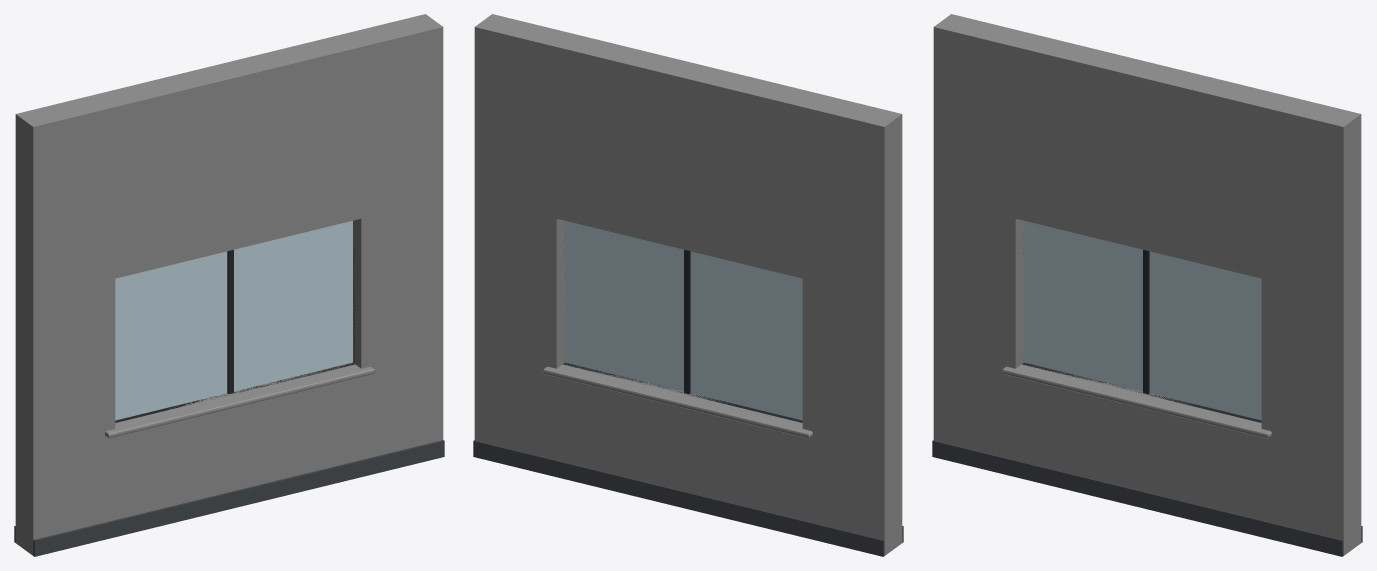
The model's file is Wall_Concrete_Window_4m.fbx.
The picture shows the model from 3 angles, left to right: view 1: azimuth 30°, elevation 25°; view 2: azimuth 150°, elevation 25°; view 3: azimuth 330°, elevation 25°; orthographic projection.
Visible parts, largest first — view 1: Wall_Concrete_Window_4m_LOD0; view 2: Wall_Concrete_Window_4m_LOD0; view 3: Wall_Concrete_Window_4m_LOD0.
Boxes of the visible parts, x1,y1,x2,y2 form: Wall_Concrete_Window_4m_LOD0: (14,14,444,556); Wall_Concrete_Window_4m_LOD0: (473,14,903,556); Wall_Concrete_Window_4m_LOD0: (932,14,1362,556).
Size of what is drawn, in the model's own units: 4 by 4 by 0.42.
